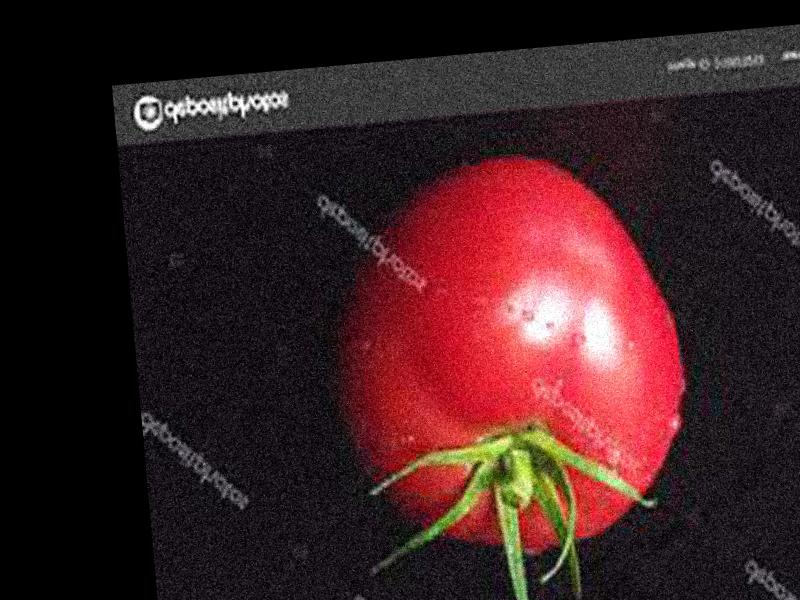Tomato: (321, 144, 698, 567)
